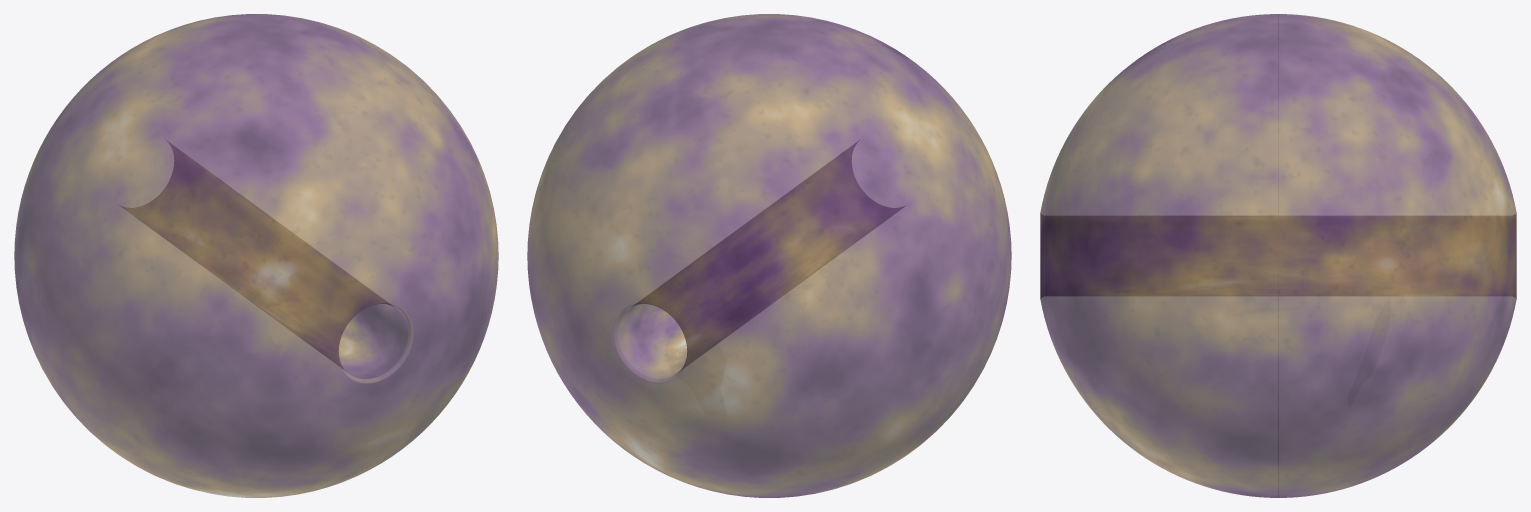
Rendered from super-seven-6mm.glb.
3 renders of one model, left to right at view 1: azimuth 30°, elevation 25°; view 2: azimuth 150°, elevation 25°; view 3: azimuth 270°, elevation 25°, orthographic.
Parts seen in each view (by area): view 1: super-seven.001; view 2: super-seven.001; view 3: super-seven.001.
Part boxes in pixels (box(x1,y1,x2,y2)): super-seven.001: box(14, 14, 498, 497); super-seven.001: box(527, 14, 1011, 497); super-seven.001: box(1040, 14, 1516, 497).
Size of the model in its own units: 0.006 by 0.006 by 0.0059.
Materials: 2 (1 with a texture image).
